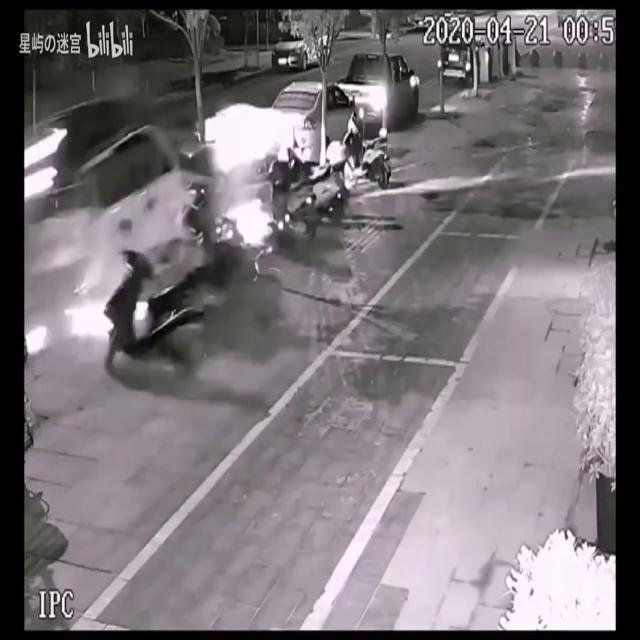multiple_accident: (83, 72, 309, 393)
